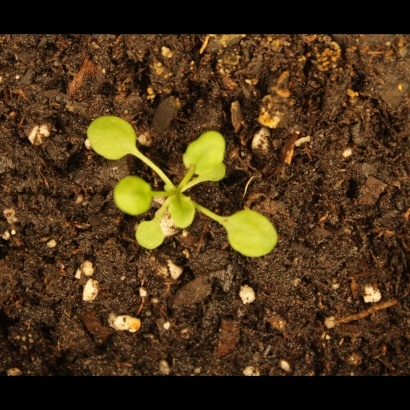leaf: (79, 115, 147, 161), (221, 209, 282, 259), (106, 171, 158, 220), (181, 131, 228, 175), (128, 218, 174, 255), (167, 186, 198, 235), (196, 160, 231, 188)
